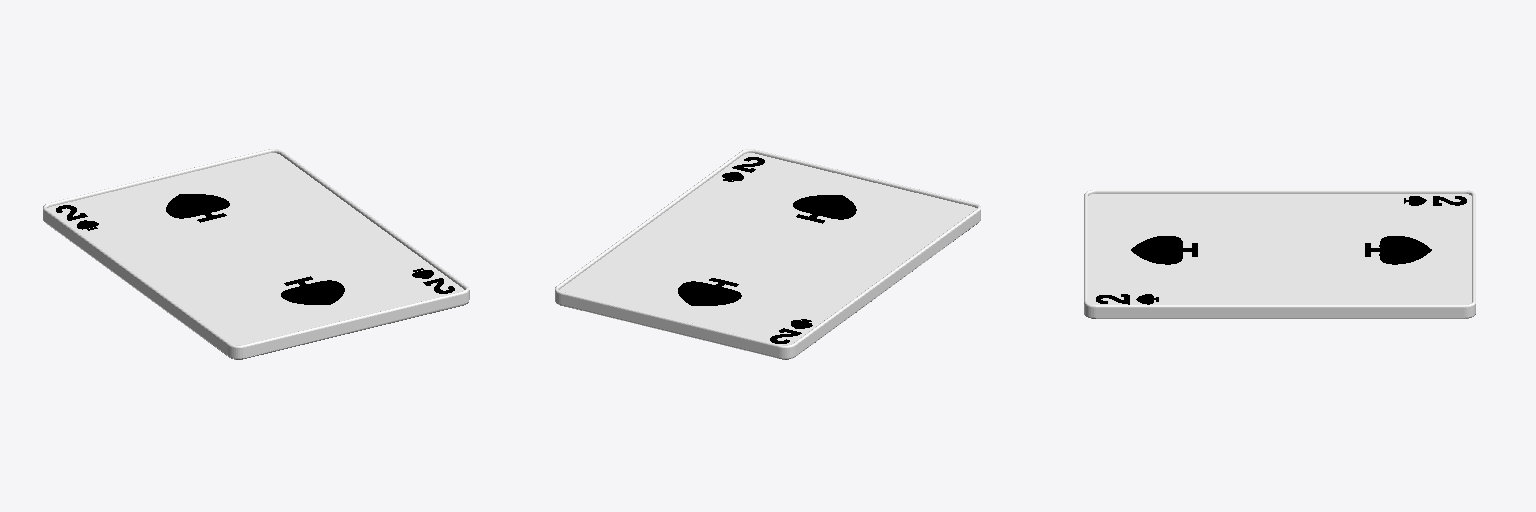
Rendered from spades_2.obj.
3 views of the same model, side by side, from view 1: azimuth 30°, elevation 25°; view 2: azimuth 150°, elevation 25°; view 3: azimuth 270°, elevation 25° (orthographic).
Parts seen in each view (by area): view 1: rect4266.042, rect4266.094, path2985-3-38-2, path2985-3-3.001, rect4266.110; view 2: rect4266.042, rect4266.094, path2985-3-3.001, path2985-3-38-2; view 3: rect4266.042, rect4266.094, path2985-3-3.001, path2985-3-38-2.
Part boxes in pixels (x1,y1,x2,y2): rect4266.042: (47,153,464,344); rect4266.094: (43,149,469,358); path2985-3-38-2: (281,276,344,304); path2985-3-3.001: (166,194,229,222); rect4266.110: (46,223,468,359); rect4266.042: (559,153,976,344); rect4266.094: (555,149,980,358); path2985-3-3.001: (678,278,741,305); path2985-3-38-2: (793,195,856,223); rect4266.042: (1088,194,1471,304); rect4266.094: (1084,190,1475,318); path2985-3-3.001: (1365,236,1431,264); path2985-3-38-2: (1131,236,1197,264).
Bounding box in the file's own units: 2.88 × 0.1966 × 4.08.